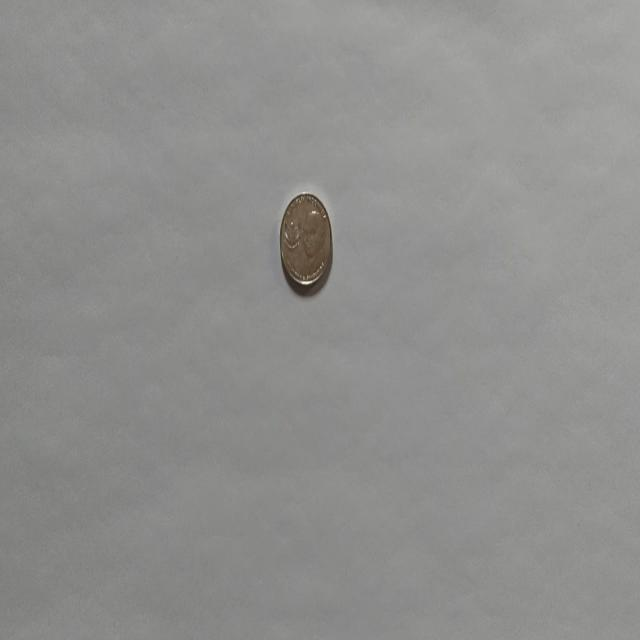lima ratus rupiah: (278, 190, 332, 289)
